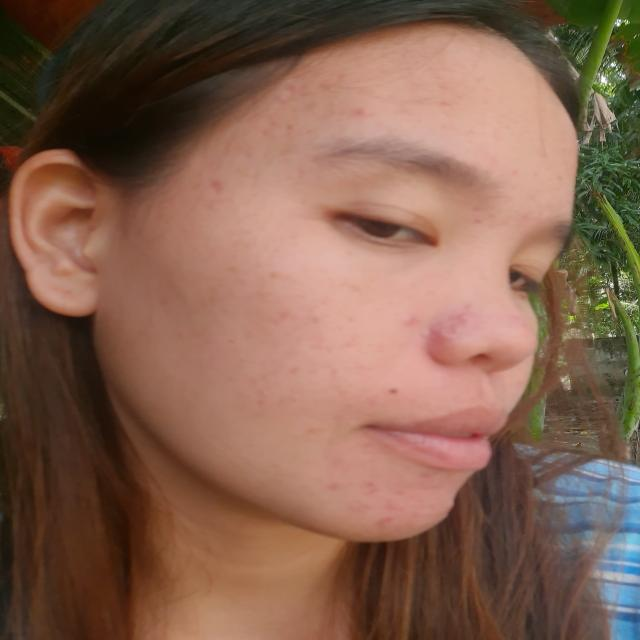Acne: (425, 298, 473, 346), (374, 488, 407, 528), (275, 78, 340, 95), (254, 115, 300, 138), (201, 174, 230, 199), (507, 310, 531, 334), (339, 330, 361, 350), (394, 312, 417, 328), (270, 308, 294, 322), (347, 499, 368, 515), (347, 106, 370, 119), (362, 480, 379, 496), (470, 212, 486, 228), (323, 479, 340, 494), (414, 469, 433, 480), (304, 425, 318, 439), (438, 96, 451, 111), (253, 398, 267, 409), (289, 365, 302, 376), (552, 173, 565, 183), (509, 168, 520, 178), (308, 315, 319, 325), (487, 156, 499, 165), (329, 366, 338, 378), (346, 312, 356, 322), (225, 338, 233, 346), (249, 377, 257, 385), (532, 172, 540, 178)
